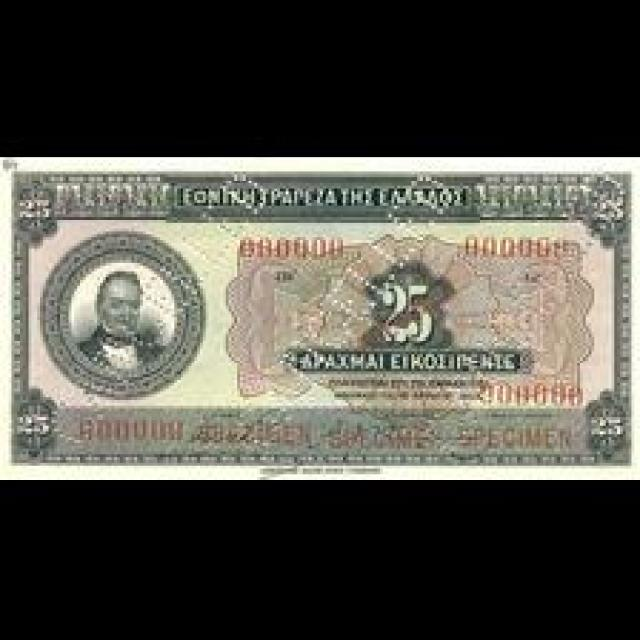banknote: (2, 156, 636, 476), (359, 274, 450, 348), (3, 392, 71, 456), (0, 187, 76, 232), (576, 399, 634, 456)
